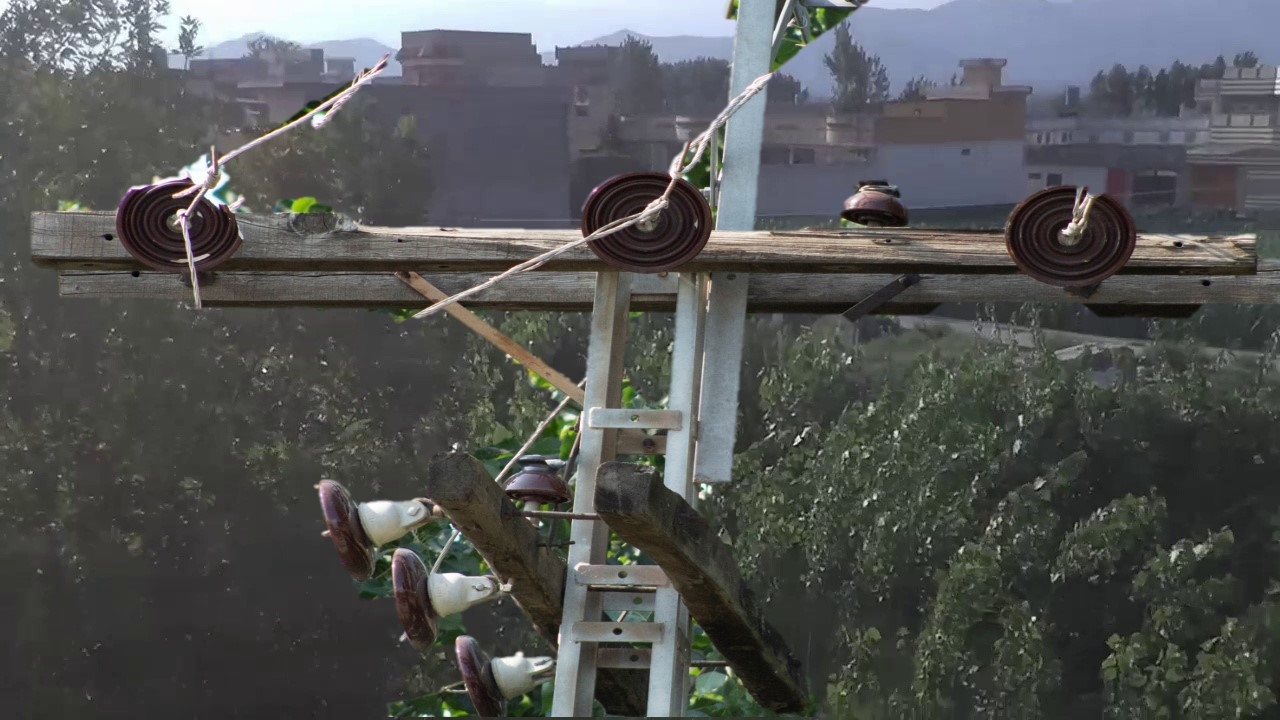defect_disc: (112, 171, 254, 283)
insulator_disc: (999, 178, 1142, 293), (576, 169, 715, 279), (446, 625, 551, 714), (312, 466, 389, 585), (381, 545, 460, 653)
insulator_pin: (501, 444, 576, 508), (840, 172, 913, 233)
